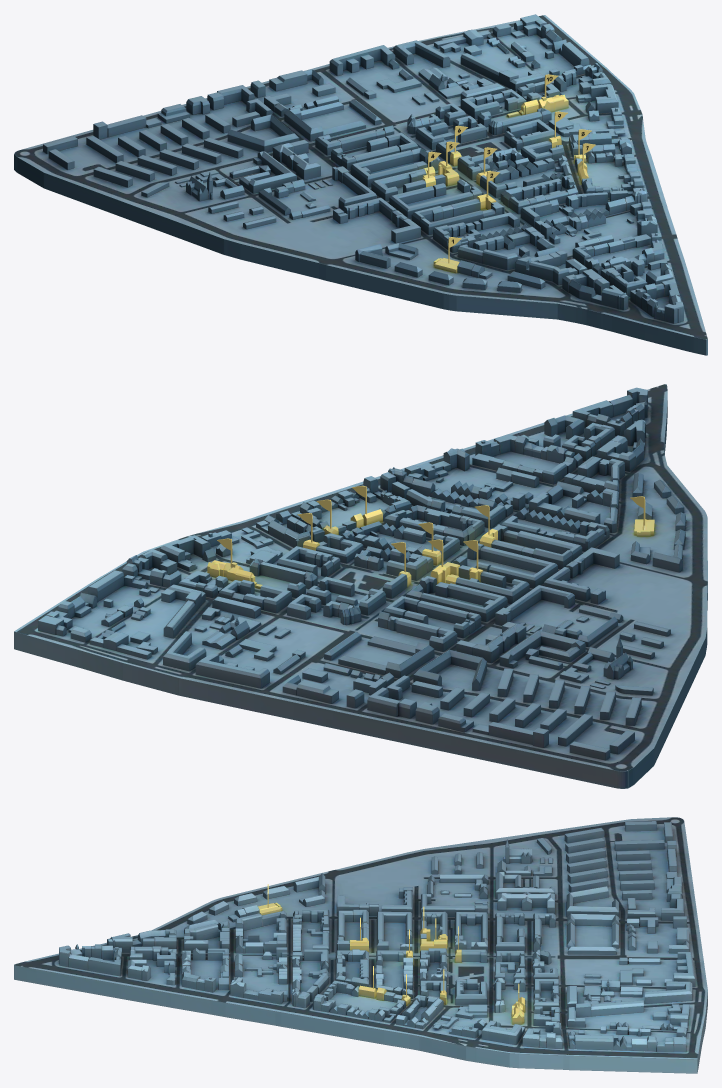
Rendered from Goetheviertel_250919_withflags_webp25.glb.
3 renders of one model, top to bottom at view 1: azimuth 30°, elevation 25°; view 2: azimuth 150°, elevation 25°; view 3: azimuth 270°, elevation 25°, orthographic. The views are drawn at different scales.
Visible parts, largest first — view 1: Other Buildings, Terrain, Station10; view 2: Other Buildings, Terrain, Station10; view 3: Terrain, Other Buildings.
Boxes of the visible parts, left/top/right/bottom form: Other Buildings: left=43, top=14, right=683, bottom=323; Terrain: left=14, top=15, right=707, bottom=355; Station10: left=506, top=94, right=568, bottom=117; Other Buildings: left=38, top=387, right=685, bottom=760; Terrain: left=14, top=384, right=707, bottom=788; Station10: left=207, top=560, right=262, bottom=588; Terrain: left=14, top=817, right=707, bottom=1073; Other Buildings: left=59, top=821, right=695, bottom=1052.
Size of the model in its own units: 906 by 85.59 by 1099.
Materials: 2 (2 with a texture image).
